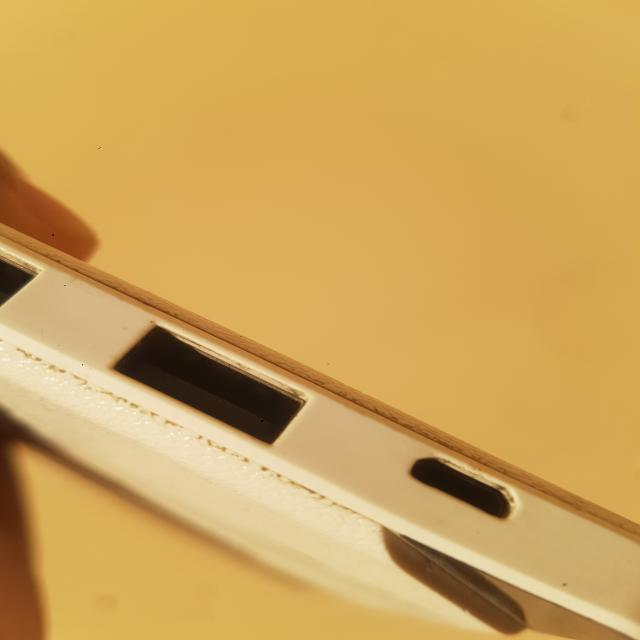electronic: (1, 221, 639, 638)
